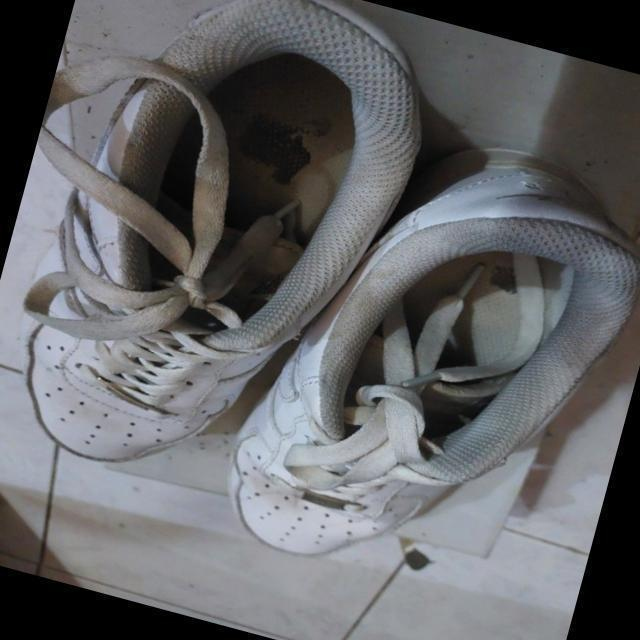nike original air force: (0, 0, 454, 521), (190, 92, 630, 604)
